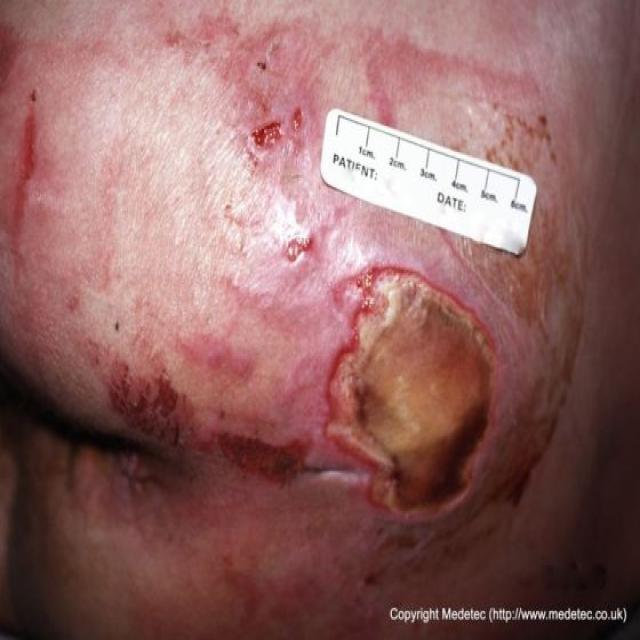Unstageable: (328, 270, 495, 511)
stage-1: (4, 81, 41, 271)
stage-2: (108, 356, 306, 478)
